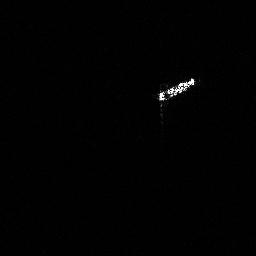ship: (153, 72, 199, 108)
